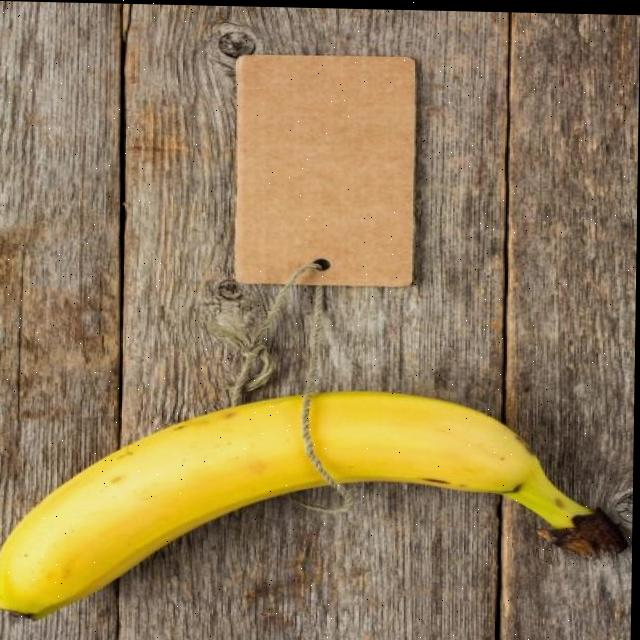banana: (0, 381, 634, 638)
